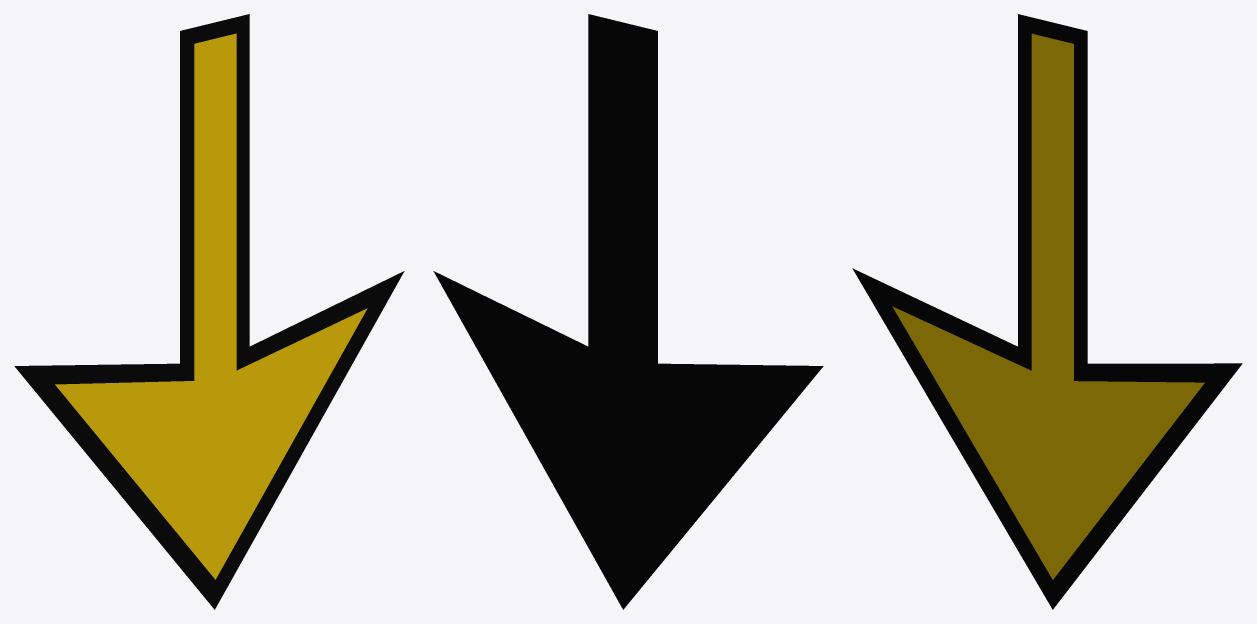
Rendered from SM_Arrow.fbx.
3 renders of one model, left to right at view 1: azimuth 30°, elevation 25°; view 2: azimuth 150°, elevation 25°; view 3: azimuth 330°, elevation 25°, orthographic.
Visible parts, largest first — view 1: Arrow; view 2: Arrow; view 3: Arrow.
Part boxes in pixels (x1,y1,x2,y2): Arrow: (14,14,404,609); Arrow: (433,14,823,609); Arrow: (852,14,1242,609).
Bounding box in the file's own units: 162 × 233 × 0.2423.
